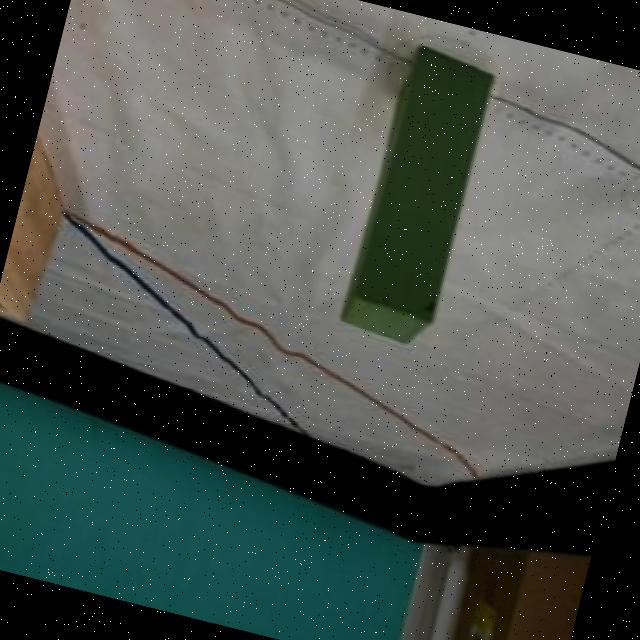greenbox: (338, 41, 500, 352)
